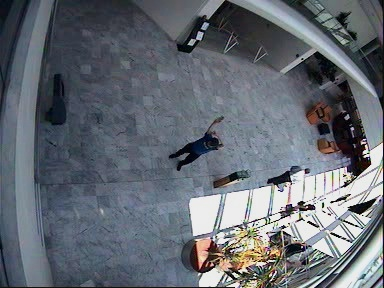person: (167, 115, 225, 172), (266, 164, 310, 187), (279, 200, 315, 214)
